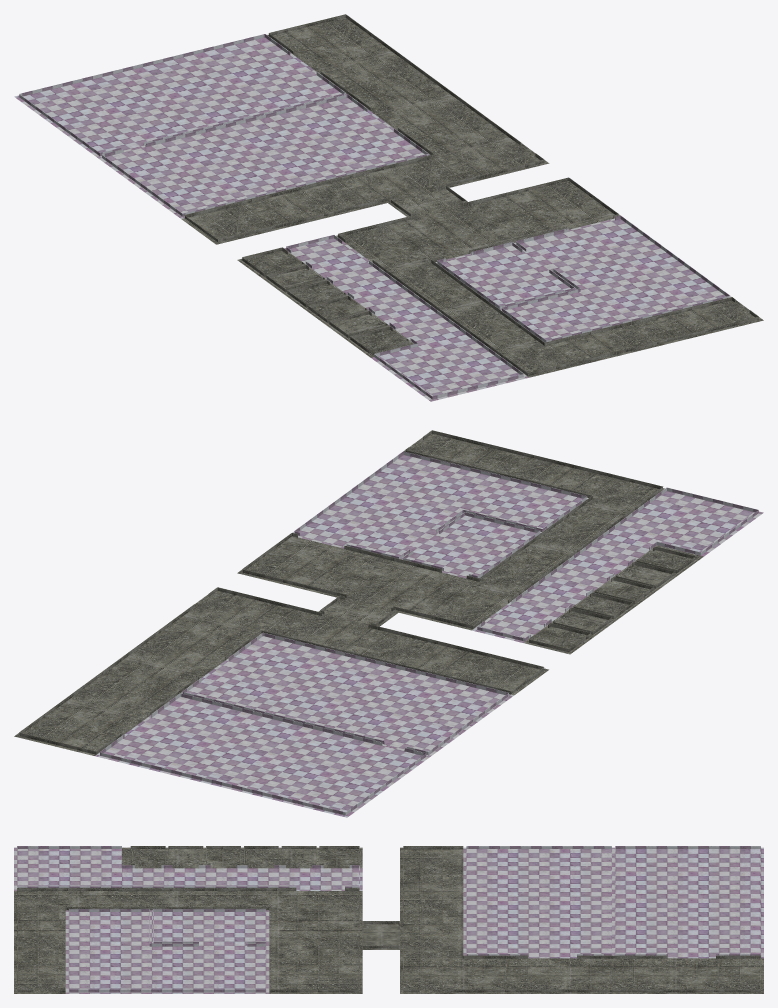
Rendered from A4_H1_Floor.FBX.
3 renders of one model, top to bottom at view 1: azimuth 30°, elevation 25°; view 2: azimuth 150°, elevation 25°; view 3: azimuth 270°, elevation 25°, orthographic. The views are drawn at different scales.
Parts seen in each view (by area): view 1: A4_H1_Floor; view 2: A4_H1_Floor; view 3: A4_H1_Floor.
Part boxes in pixels (x1=…): A4_H1_Floor: x1=14, y1=14, x2=763, y2=401; A4_H1_Floor: x1=14, y1=430, x2=763, y2=817; A4_H1_Floor: x1=14, y1=846, x2=763, y2=993.
Size of the model in its own units: 1655 by 15.35 by 3586.
